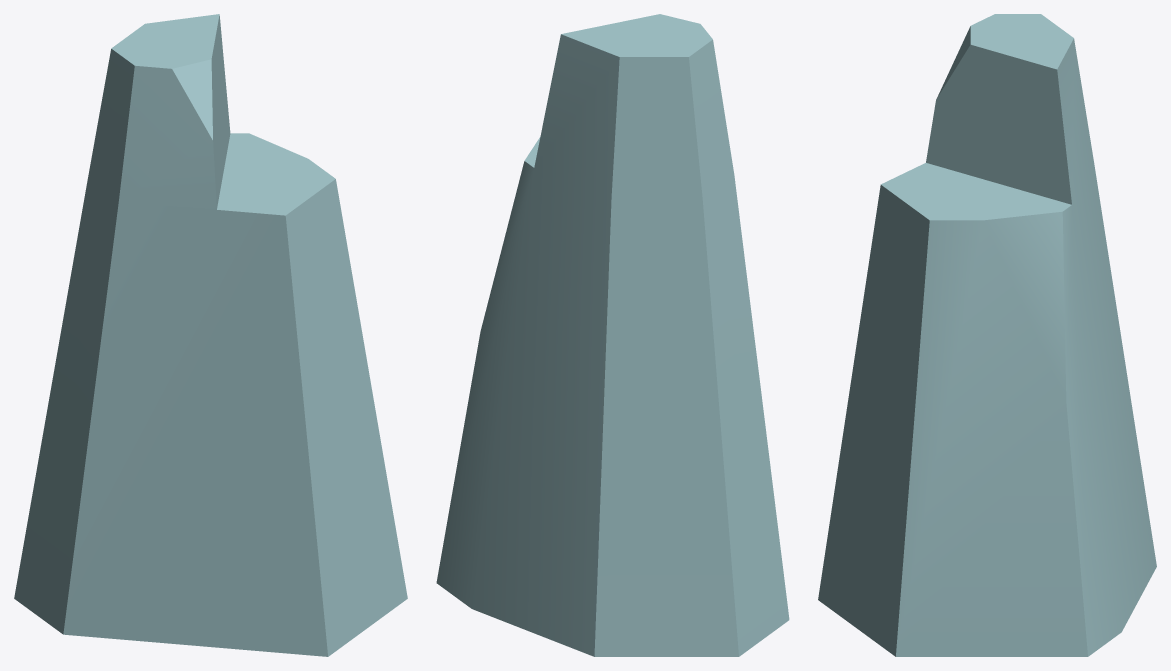
File: stone_tall9.fbx
The picture shows the model from 3 angles, left to right: view 1: azimuth 30°, elevation 25°; view 2: azimuth 150°, elevation 25°; view 3: azimuth 270°, elevation 25°; orthographic projection. The views are drawn at different scales.
Parts seen in each view (by area): view 1: stone_tall9; view 2: stone_tall9; view 3: stone_tall9.
Part boxes in pixels (left/top/right/bottom): stone_tall9: left=14, top=14, right=407, bottom=656; stone_tall9: left=436, top=14, right=789, bottom=656; stone_tall9: left=818, top=14, right=1156, bottom=656.
Bounding box in the file's own units: 4.56 × 8.12 × 4.64.
